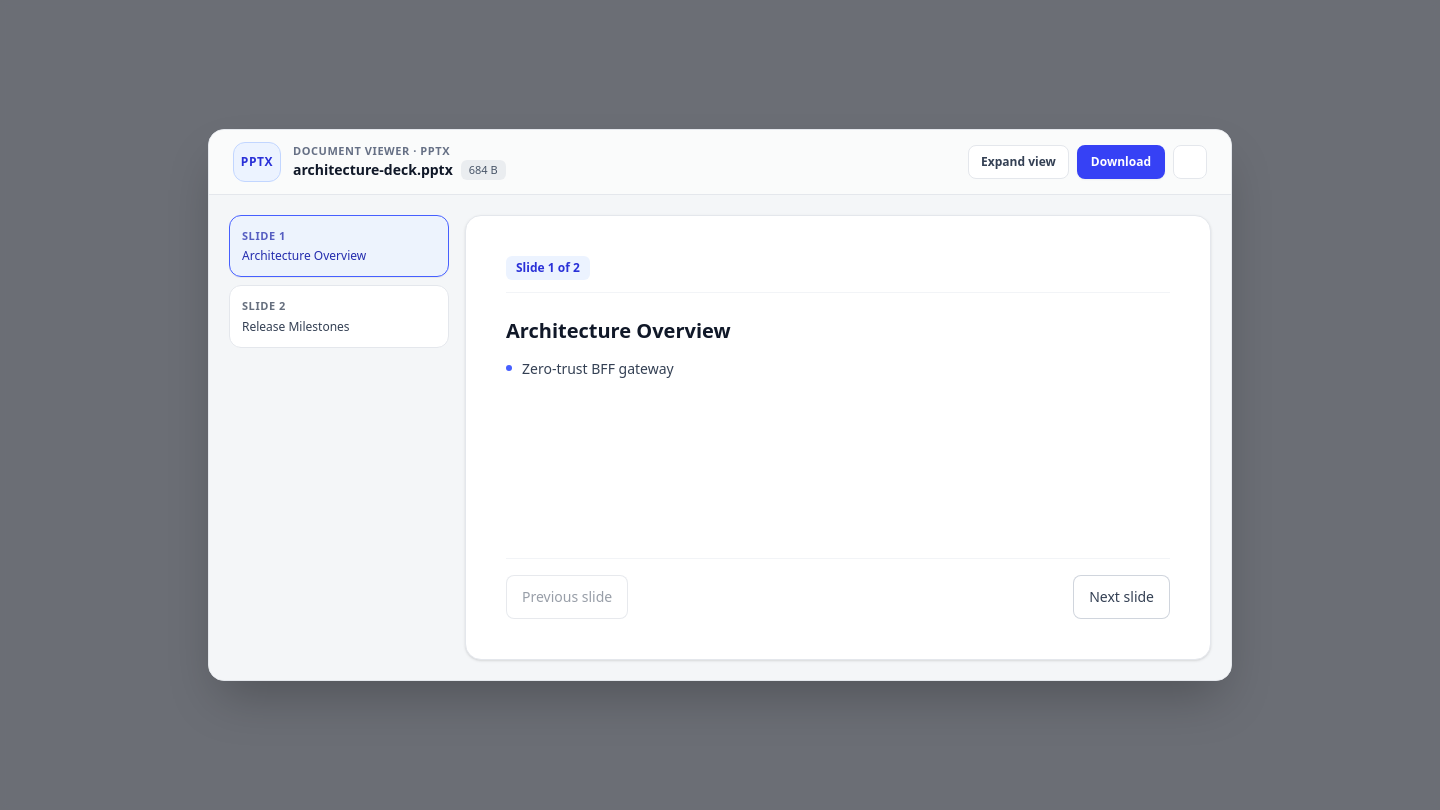
Test: renders an interactive PowerPoint (.pptx) slide deck preview with slide navigation
Check: the text "Slide 1 of 2" is shown, box [506,256,590,280]
Check: the text "Zero-trust BFF gateway" is shown, box [522,357,674,381]
Click the button "Next slide": point(1122, 597) [1073,575,1170,619]
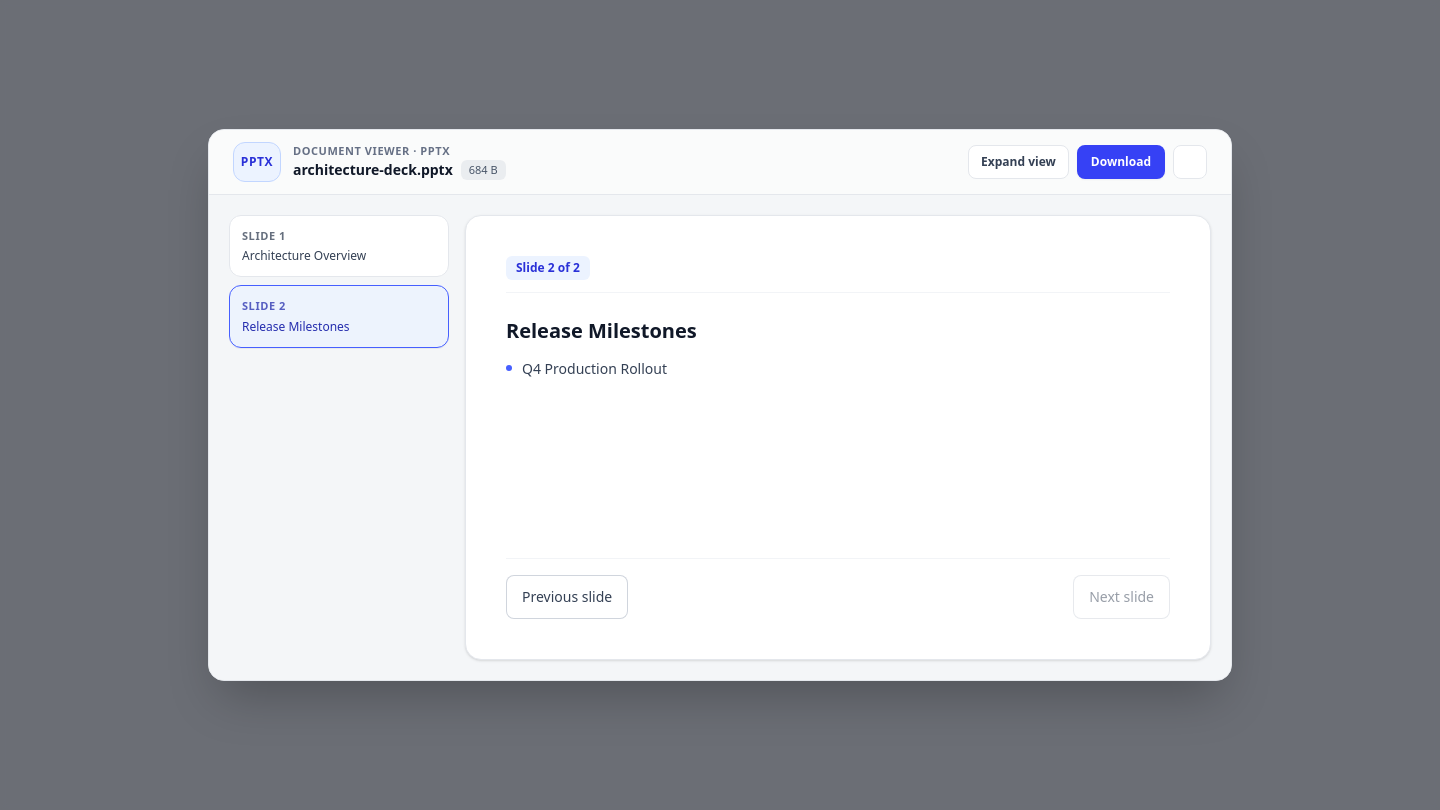
Check: the text "Slide 2 of 2" is shown, box [506,256,590,280]
Check: the text "Q4 Production Rollout" is shown, box [522,357,667,381]
